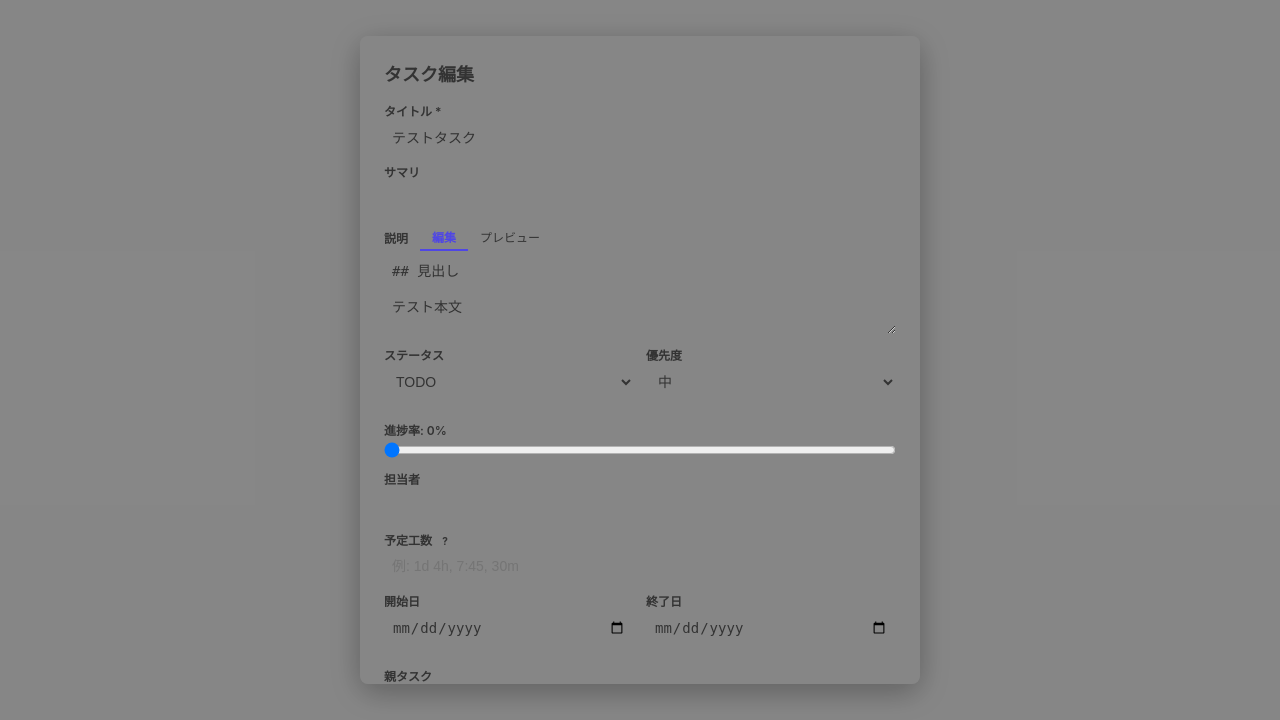
Scenario: TaskModal — 説明フィールドのタブ切り替え › 「プレビュー」タブをクリックすると textarea が消え Markdown がレンダリングされる
Click the tab "プレビュー".
click(510, 238)  # box [468, 224, 552, 251]
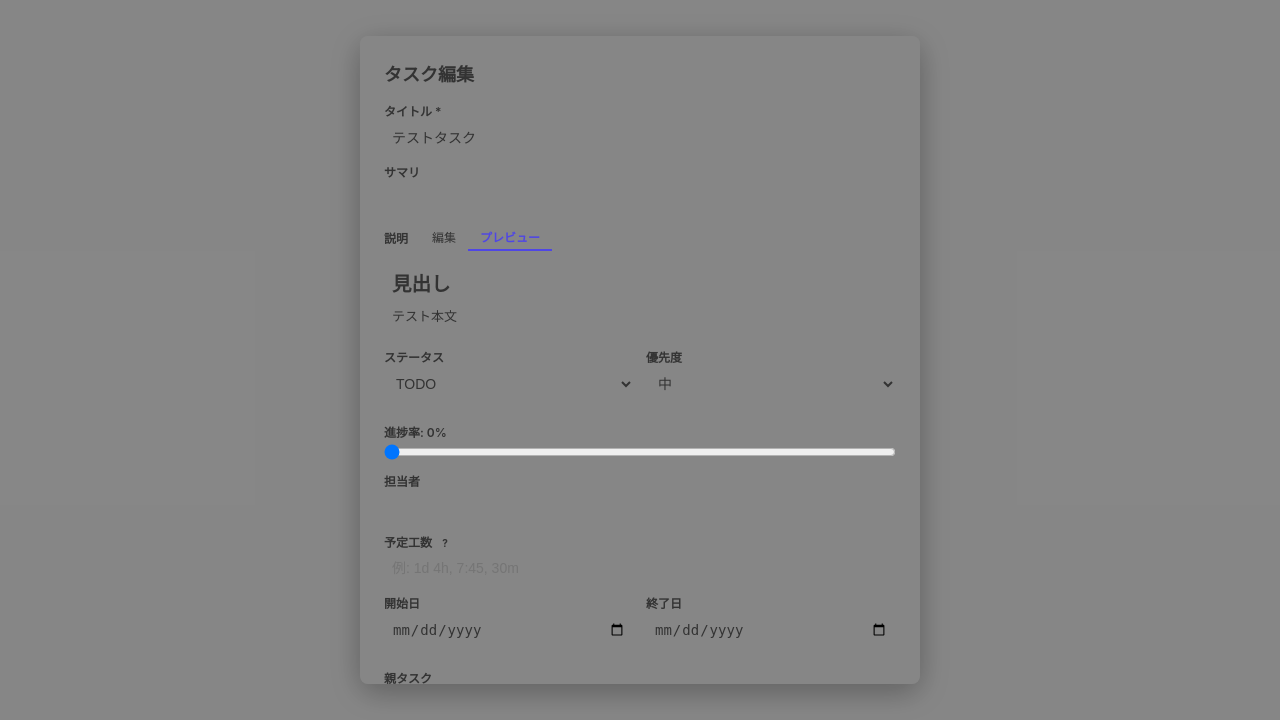
Result: the heading "見出し" is shown at [392, 272, 450, 296]
